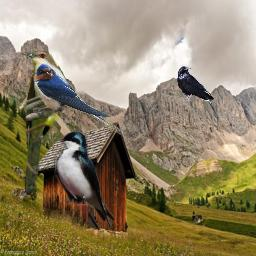Crow: (177, 66, 214, 104)
Cuckoo: (21, 50, 69, 192)
Swallow: (33, 63, 123, 135), (53, 130, 115, 230)
